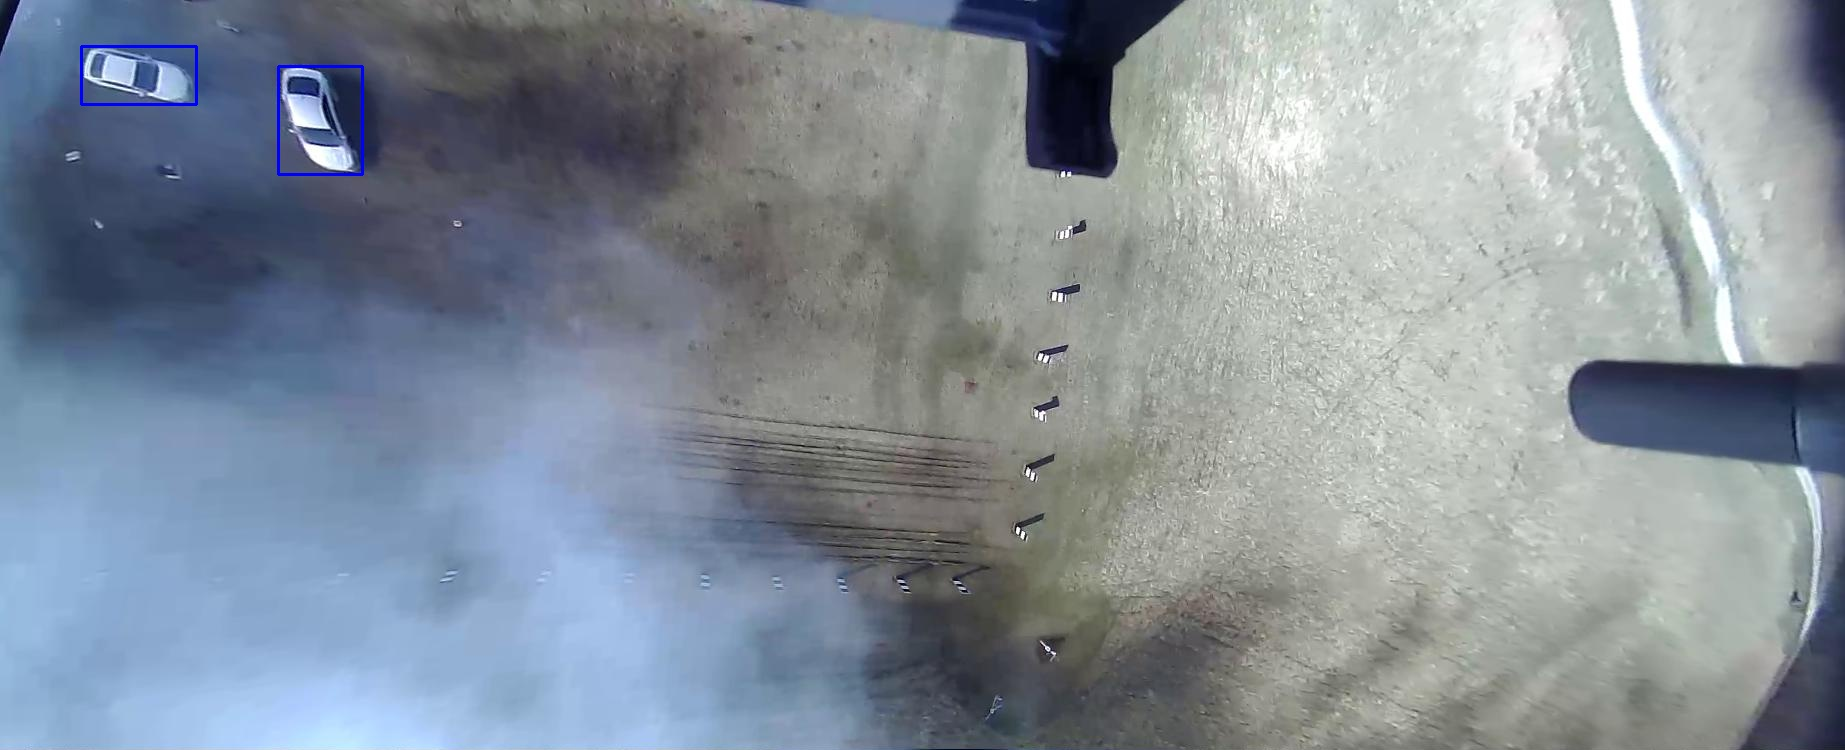vehicle: (66, 278, 174, 361), (46, 81, 104, 195)
